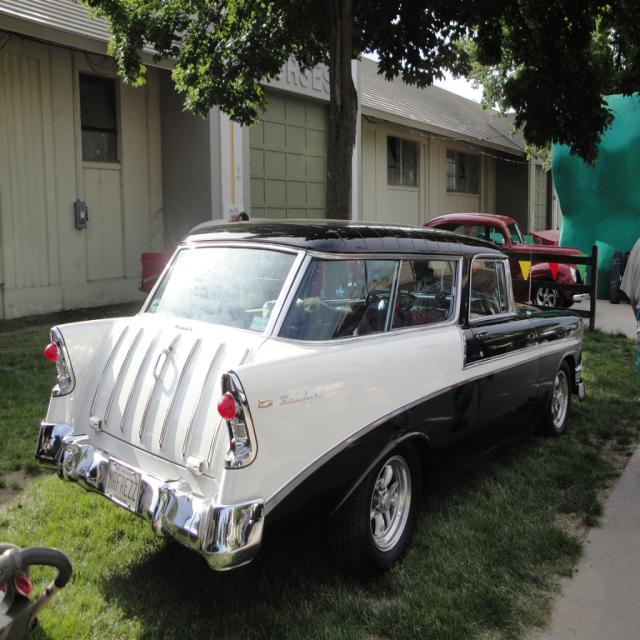car: (33, 199, 583, 571)
